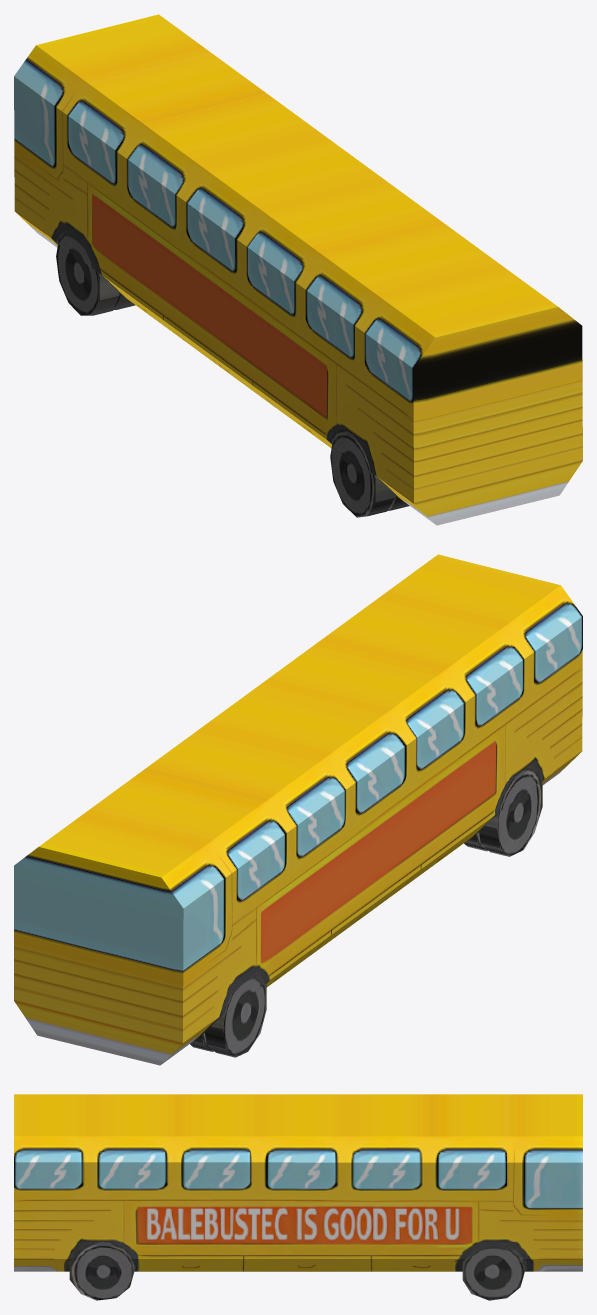
File: Bus.glb
The picture shows the model from 3 angles, top to bottom: view 1: azimuth 30°, elevation 25°; view 2: azimuth 150°, elevation 25°; view 3: azimuth 270°, elevation 25°; orthographic projection. The views are drawn at different scales.
Parts seen in each view (by area): view 1: Bus; view 2: Bus; view 3: Bus.
Boxes of the visible parts, x1=… form: Bus: x1=14, y1=14, x2=582, y2=525; Bus: x1=14, y1=554, x2=582, y2=1065; Bus: x1=14, y1=1094, x2=582, y2=1300.
Size of the model in its own units: 60.86 by 74.57 by 247.
1 material, 1 textured.
